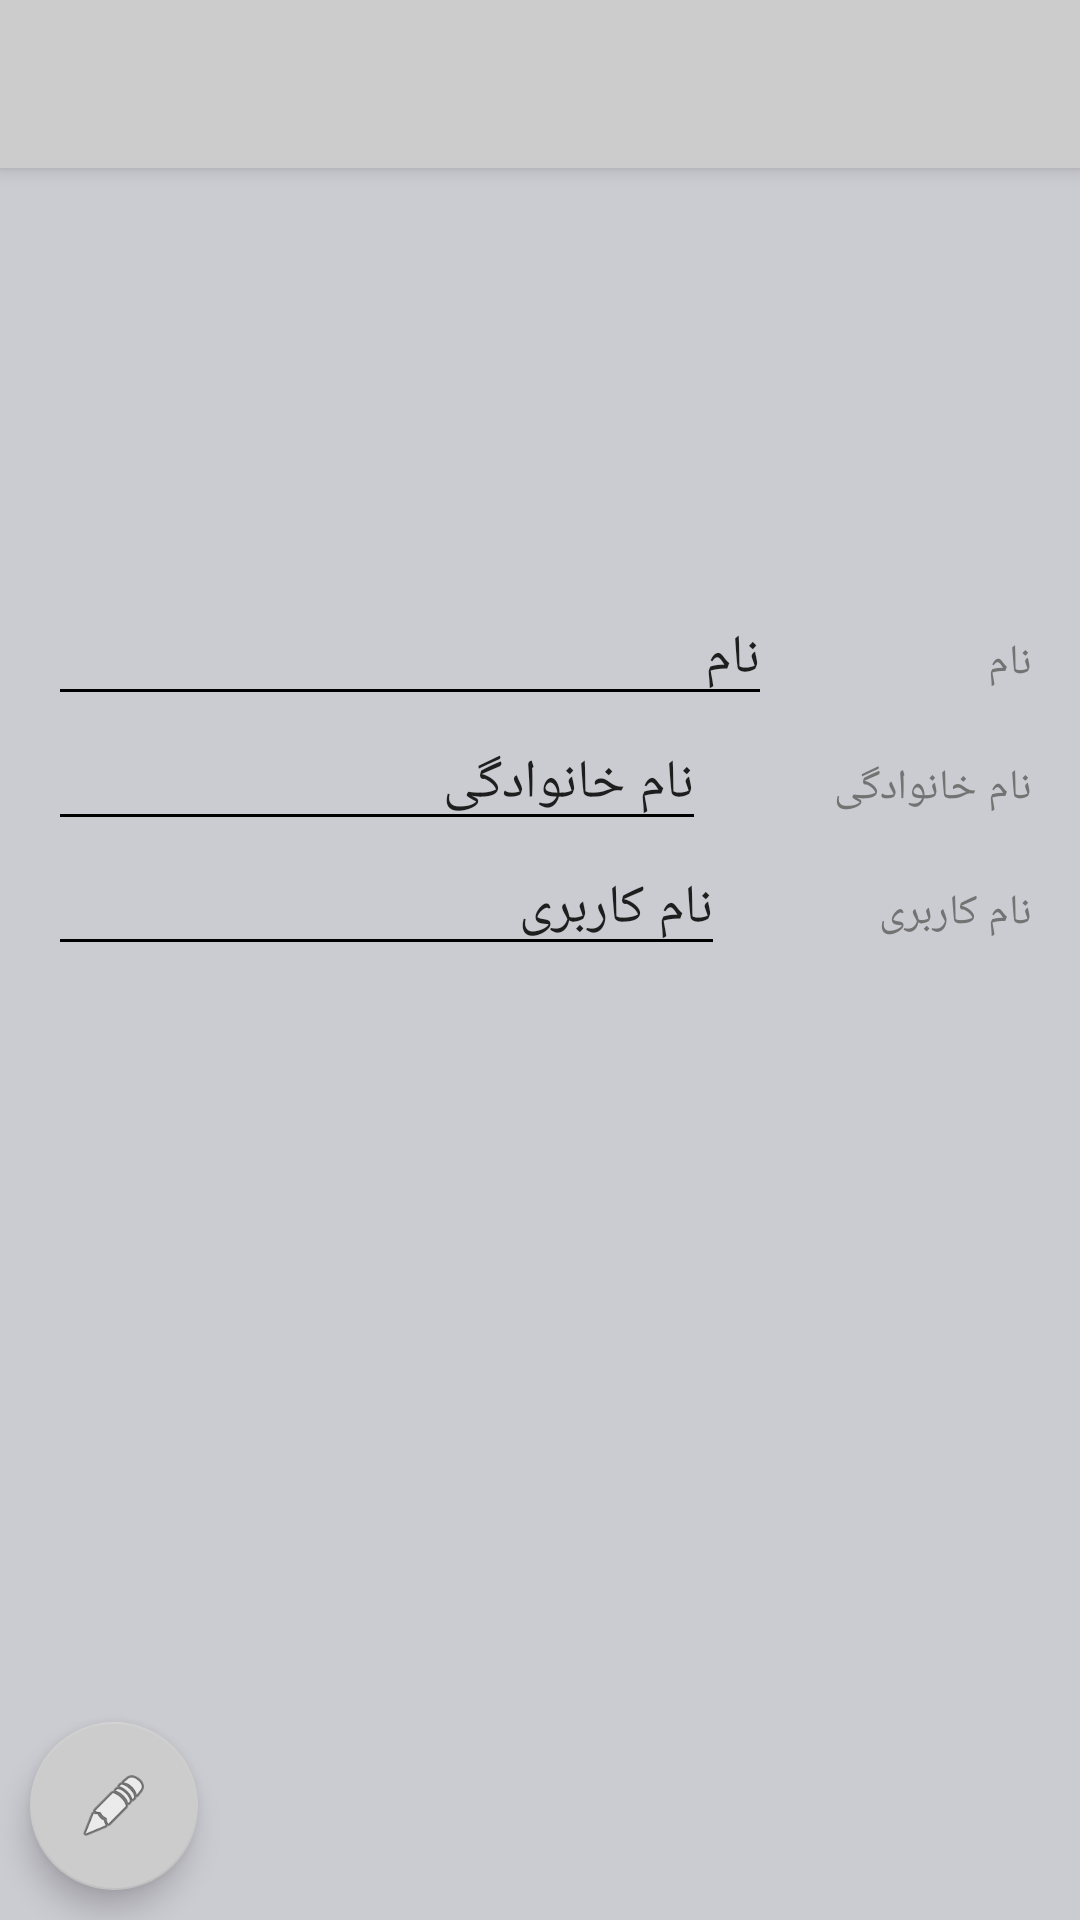

Icons on this 1080x1920 Android screen, each with its box as (x1, y1, x2, y2):
edit: (83, 1775, 144, 1836)
